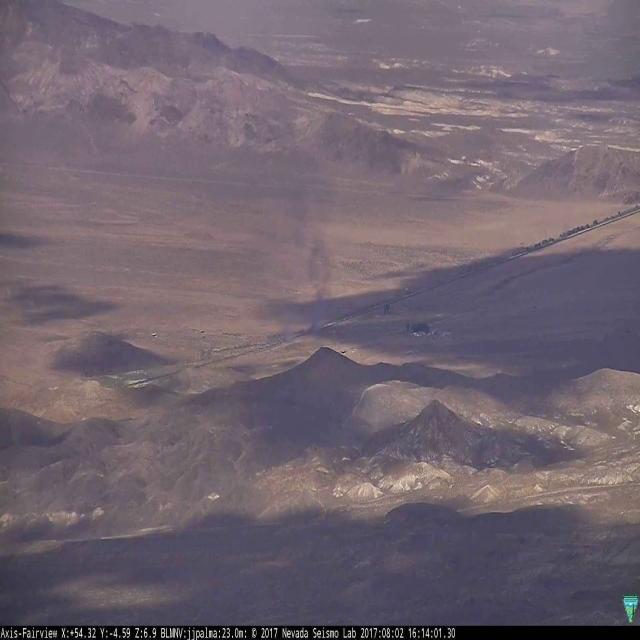smoke: (274, 125, 375, 346)
